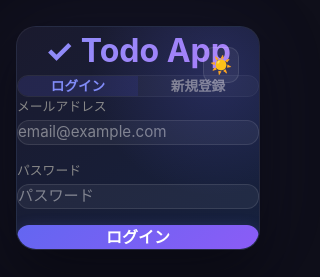
Scenario: LoginPage › バリデーションエラーが表示される
This screenshot has width=320, height=277.
# メールアドレスを空のままフォーム内のログイン送信ボタンをクリック
Click the submit button: [138, 237] box [17,225,259,249]
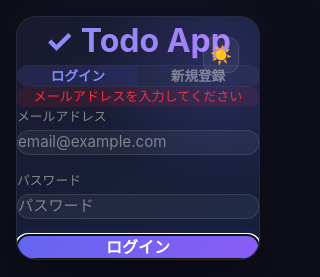
Expected: the text "メールアドレスを入力してください" is shown, [17,87,259,107]
